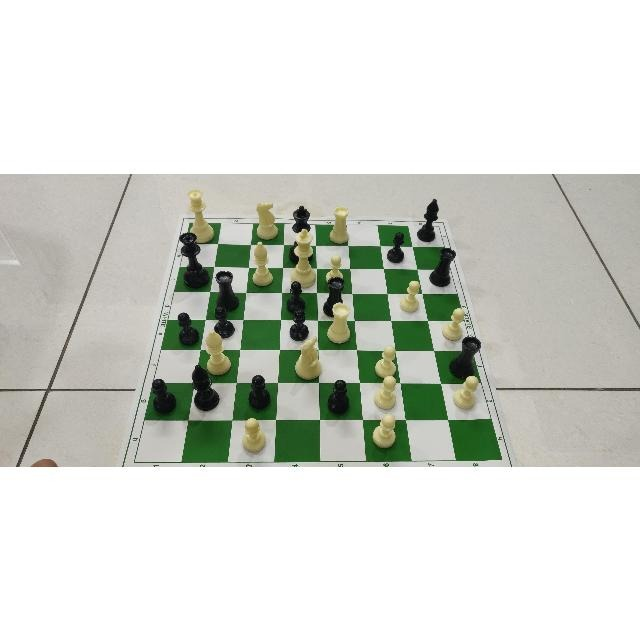black-bishop: (190, 362, 224, 414), (416, 195, 441, 245)
black-king: (290, 204, 318, 226)
black-pawn: (148, 376, 178, 416), (247, 370, 271, 409), (172, 313, 200, 345), (328, 377, 352, 413), (391, 229, 409, 266), (286, 279, 309, 306), (287, 311, 309, 339), (214, 304, 236, 332)
black-queen: (175, 233, 209, 283)
black-rook: (451, 334, 480, 373), (211, 270, 242, 302), (434, 243, 454, 287), (323, 276, 349, 302)
white-bishop: (246, 239, 274, 287), (201, 330, 226, 366)
white-king: (290, 226, 314, 280)
white-knight: (295, 333, 321, 379), (257, 199, 274, 238)
white-pawn: (456, 370, 484, 411), (369, 412, 397, 450), (239, 414, 267, 451), (397, 274, 422, 311), (374, 374, 396, 410), (372, 342, 396, 373), (443, 302, 466, 334), (326, 252, 343, 271)
white-queen: (187, 190, 219, 232)
white-rook: (324, 300, 352, 345), (328, 206, 351, 243)
